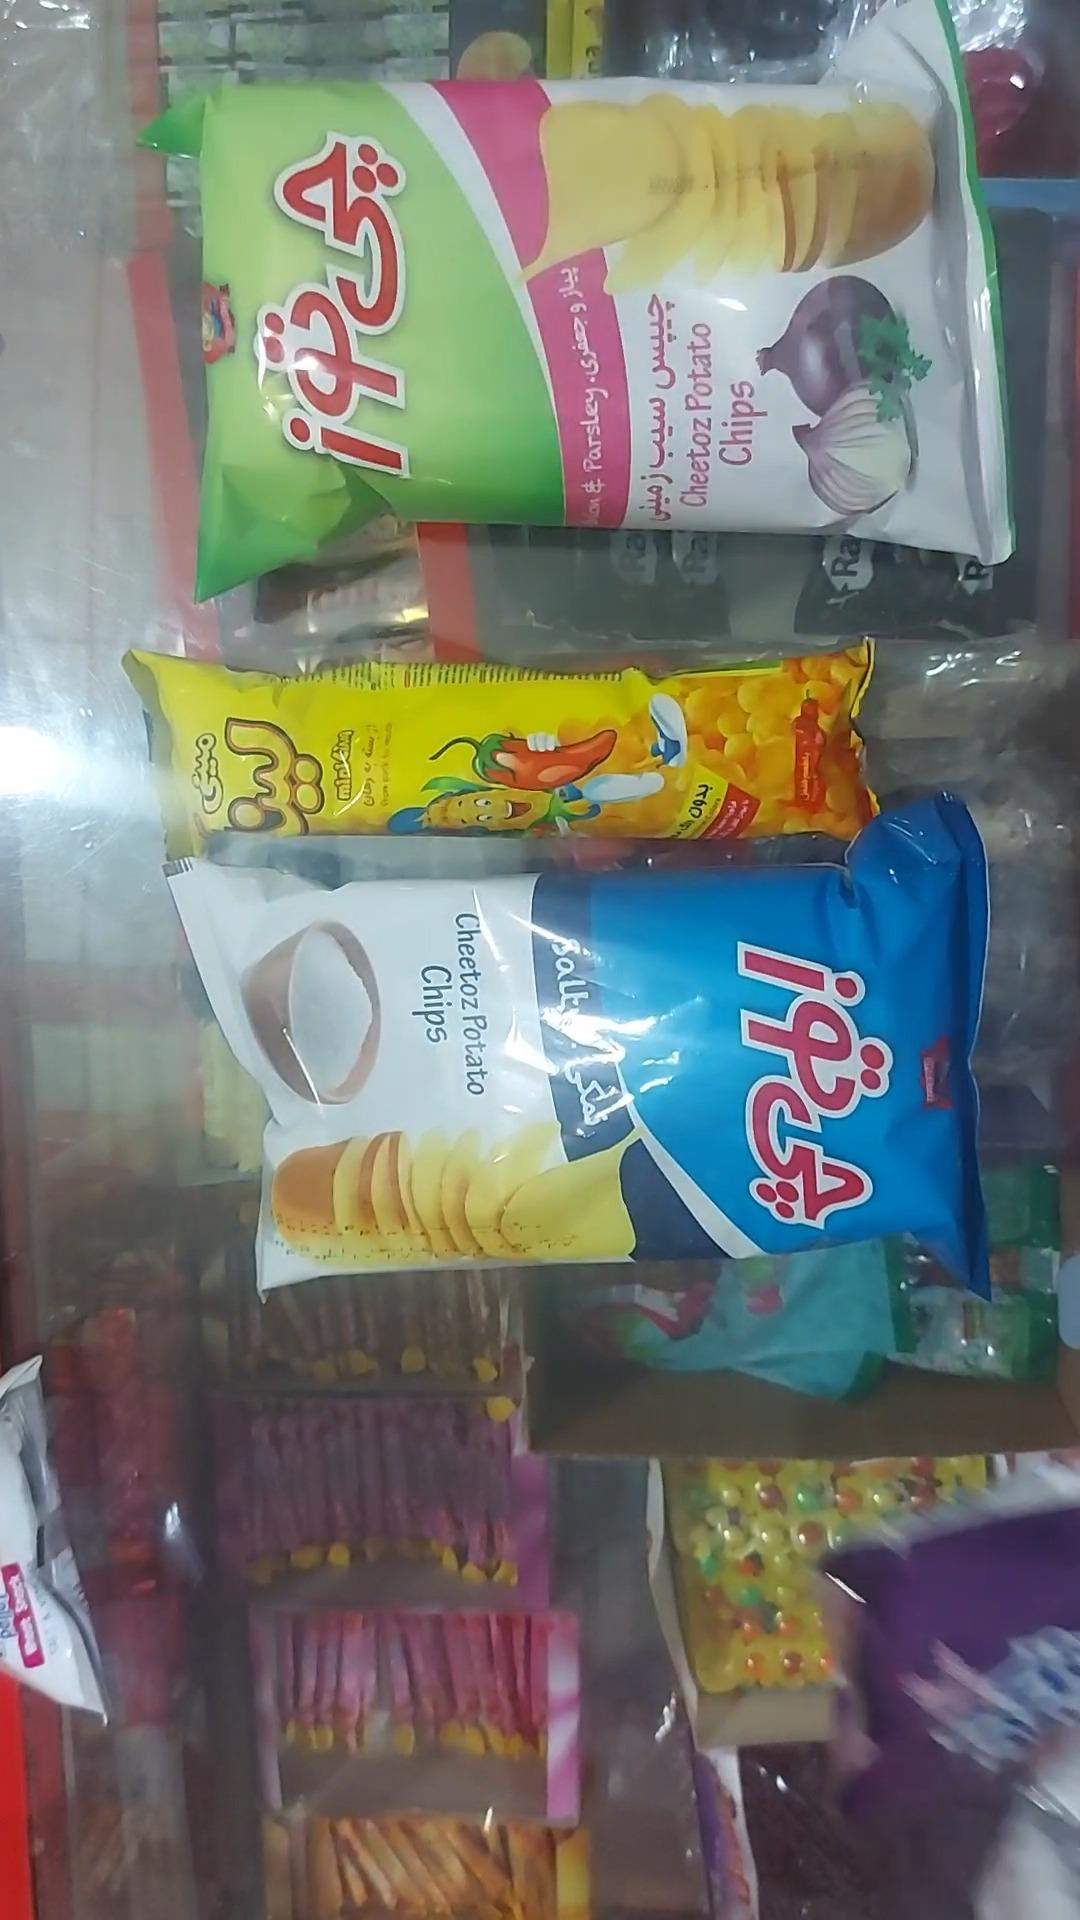Cheetoz onion and parsley chips: (141, 0, 1015, 603)
Cheetoz salty chips: (164, 791, 990, 1300)
Mini Lina: (124, 638, 878, 864)
